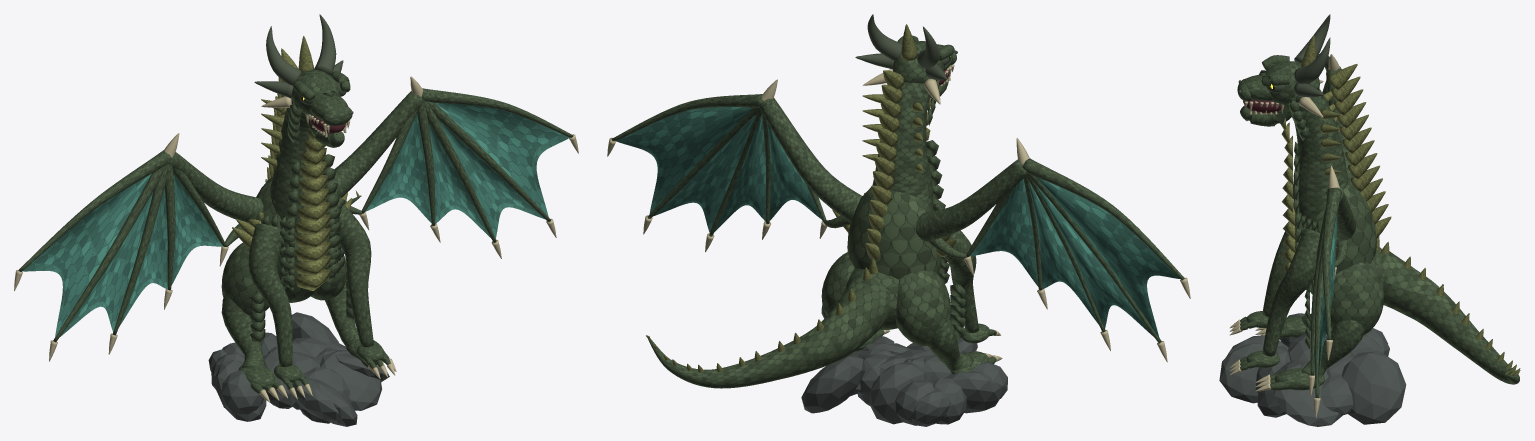
Rendered from player-dragon.glb.
The picture shows the model from 3 angles, left to right: view 1: azimuth 30°, elevation 25°; view 2: azimuth 150°, elevation 25°; view 3: azimuth 270°, elevation 25°; orthographic projection. The views are drawn at different scales.
Visible parts, largest first — view 1: Scalloped jade membrane, Scalloped jade membrane.004, Foreleg, Foreleg.001, Scalloped jade membrane.001, Scalloped jade membrane.007, Scalloped jade membrane.005, Wing upper arm.001, Curved armored neck, Wing upper arm, Scalloped jade membrane.003, Scalloped jade membrane.006 (+29 smaller); view 2: Long sweeping tail, Scalloped jade membrane.004, Scalloped jade membrane, Powerful ribcage, Wing upper arm.001, Curved armored neck, Hind haunch, Scalloped jade membrane.005, Wing upper arm, Scalloped jade membrane.003, Scalloped jade membrane.001, Scalloped jade membrane.002 (+25 smaller); view 3: Long sweeping tail, Curved armored neck, Basalt outcrop.014, Hind haunch.001, Foreleg.001, Powerful ribcage, Basalt outcrop.023, Basalt outcrop.016, Hind leg.001, Wing finger 0.001, Basalt outcrop.012, Dragon skull (+29 smaller).
Part boxes in pixels (x1=…): Scalloped jade membrane: x1=22, y1=173, x2=151, y2=337; Scalloped jade membrane.004: x1=435, y1=103, x2=569, y2=216; Foreleg: x1=248, y1=223, x2=292, y2=366; Foreleg.001: x1=337, y1=204, x2=373, y2=347; Scalloped jade membrane.001: x1=60, y1=191, x2=153, y2=336; Scalloped jade membrane.007: x1=365, y1=113, x2=431, y2=223; Scalloped jade membrane.005: x1=438, y1=120, x2=545, y2=238; Wing upper arm.001: x1=332, y1=91, x2=424, y2=197; Curved armored neck: x1=270, y1=99, x2=325, y2=232; Wing upper arm: x1=168, y1=152, x2=263, y2=222; Scalloped jade membrane.003: x1=171, y1=175, x2=222, y2=285; Scalloped jade membrane.006: x1=428, y1=122, x2=490, y2=237; Long sweeping tail: x1=648, y1=274, x2=890, y2=388; Scalloped jade membrane.004: x1=616, y1=107, x2=752, y2=213; Scalloped jade membrane: x1=1036, y1=177, x2=1179, y2=338; Powerful ribcage: x1=847, y1=187, x2=941, y2=279; Wing upper arm.001: x1=758, y1=98, x2=862, y2=222; Curved armored neck: x1=872, y1=82, x2=933, y2=209; Hind haunch: x1=896, y1=270, x2=951, y2=346; Scalloped jade membrane.005: x1=653, y1=115, x2=756, y2=232; Wing upper arm: x1=916, y1=159, x2=1027, y2=241; Scalloped jade membrane.003: x1=970, y1=179, x2=1038, y2=286; Scalloped jade membrane.001: x1=1034, y1=183, x2=1154, y2=337; Scalloped jade membrane.002: x1=1028, y1=181, x2=1098, y2=324; Long sweeping tail: x1=1379, y1=251, x2=1519, y2=384; Curved armored neck: x1=1286, y1=88, x2=1348, y2=225; Basalt outcrop.014: x1=1342, y1=351, x2=1406, y2=424; Hind haunch.001: x1=1330, y1=262, x2=1383, y2=335; Foreleg.001: x1=1262, y1=228, x2=1320, y2=356; Powerful ribcage: x1=1295, y1=177, x2=1376, y2=294; Basalt outcrop.023: x1=1274, y1=363, x2=1342, y2=426; Basalt outcrop.016: x1=1219, y1=343, x2=1277, y2=403; Hind leg.001: x1=1301, y1=319, x2=1364, y2=375; Wing finger 0.001: x1=1322, y1=187, x2=1341, y2=339; Basalt outcrop.012: x1=1321, y1=374, x2=1353, y2=415; Dragon skull: x1=1262, y1=61, x2=1319, y2=105.
Bounding box in the file's own units: 11.45 × 7.37 × 5.36.
Materials: 10 (3 with a texture image).
